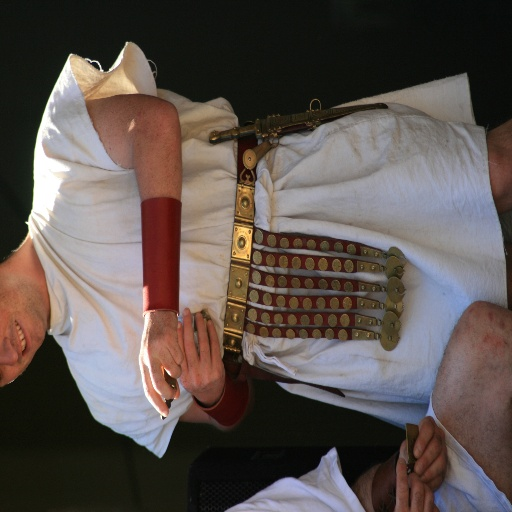hand: (163, 303, 229, 413), (138, 311, 184, 418), (399, 413, 447, 492), (392, 455, 439, 511)
